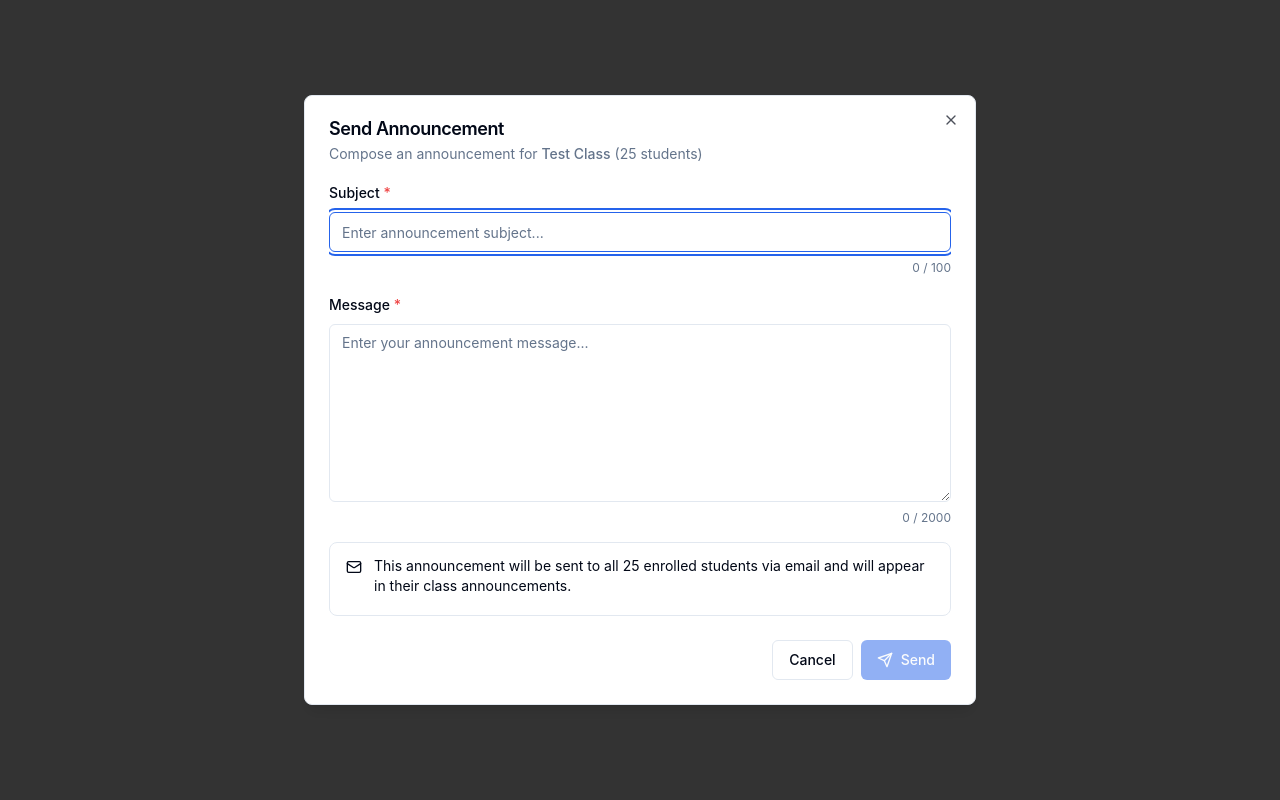
SendAnnouncementDialog › shows character count for subject
In the field labelled "Subject *": (640,232) [329, 212, 951, 252], type "Test"
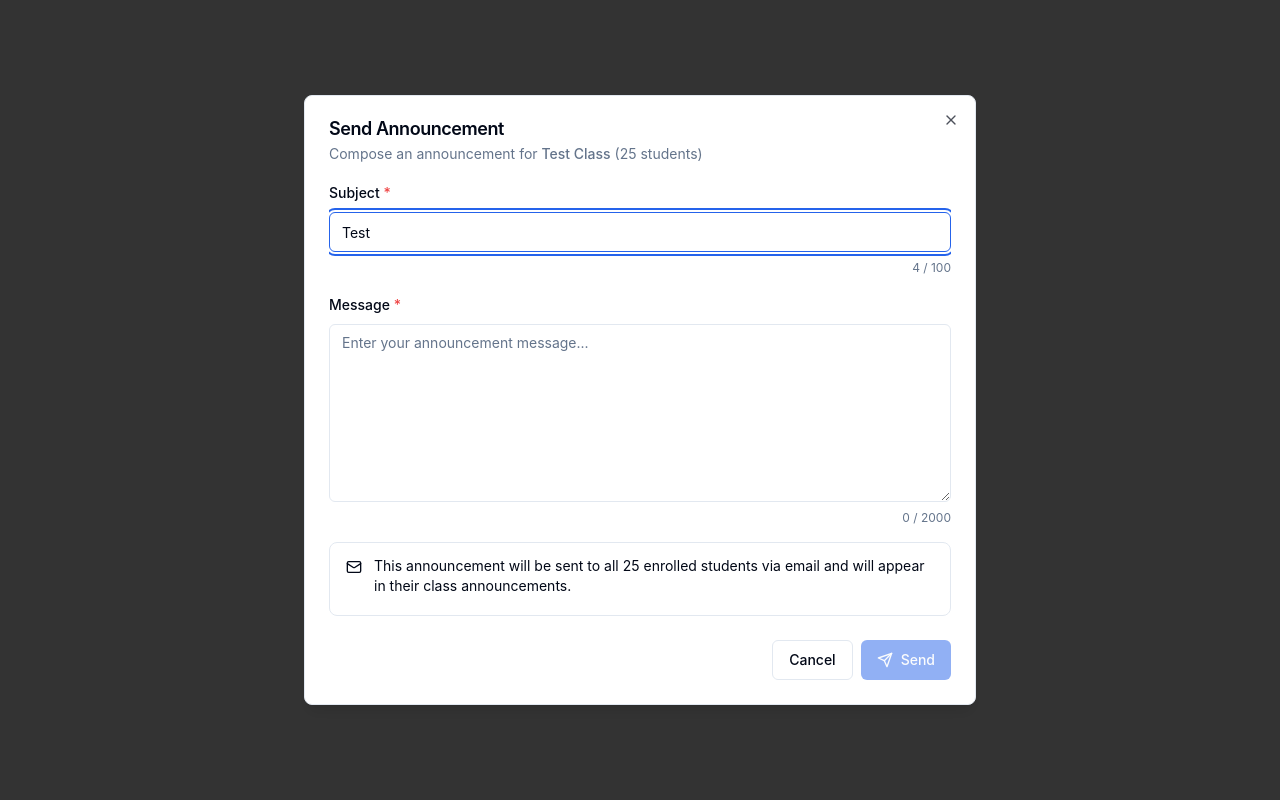
Expected: the text "4 / 100" is shown, [912, 260, 951, 276]
